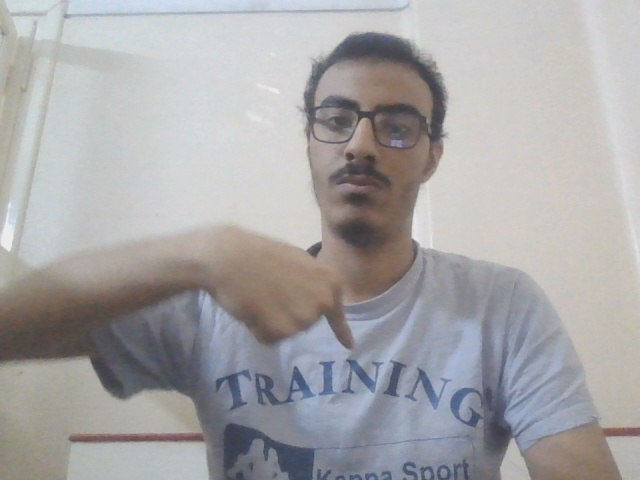Me: (193, 212, 367, 371)
